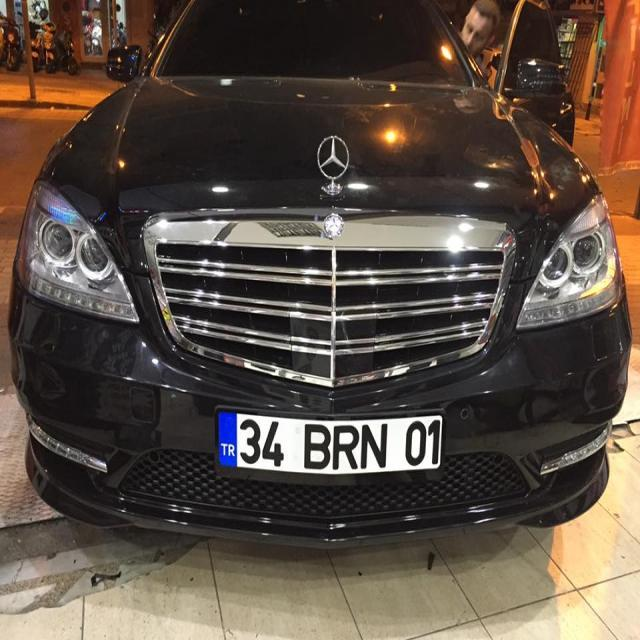plate: (215, 408, 450, 480)
